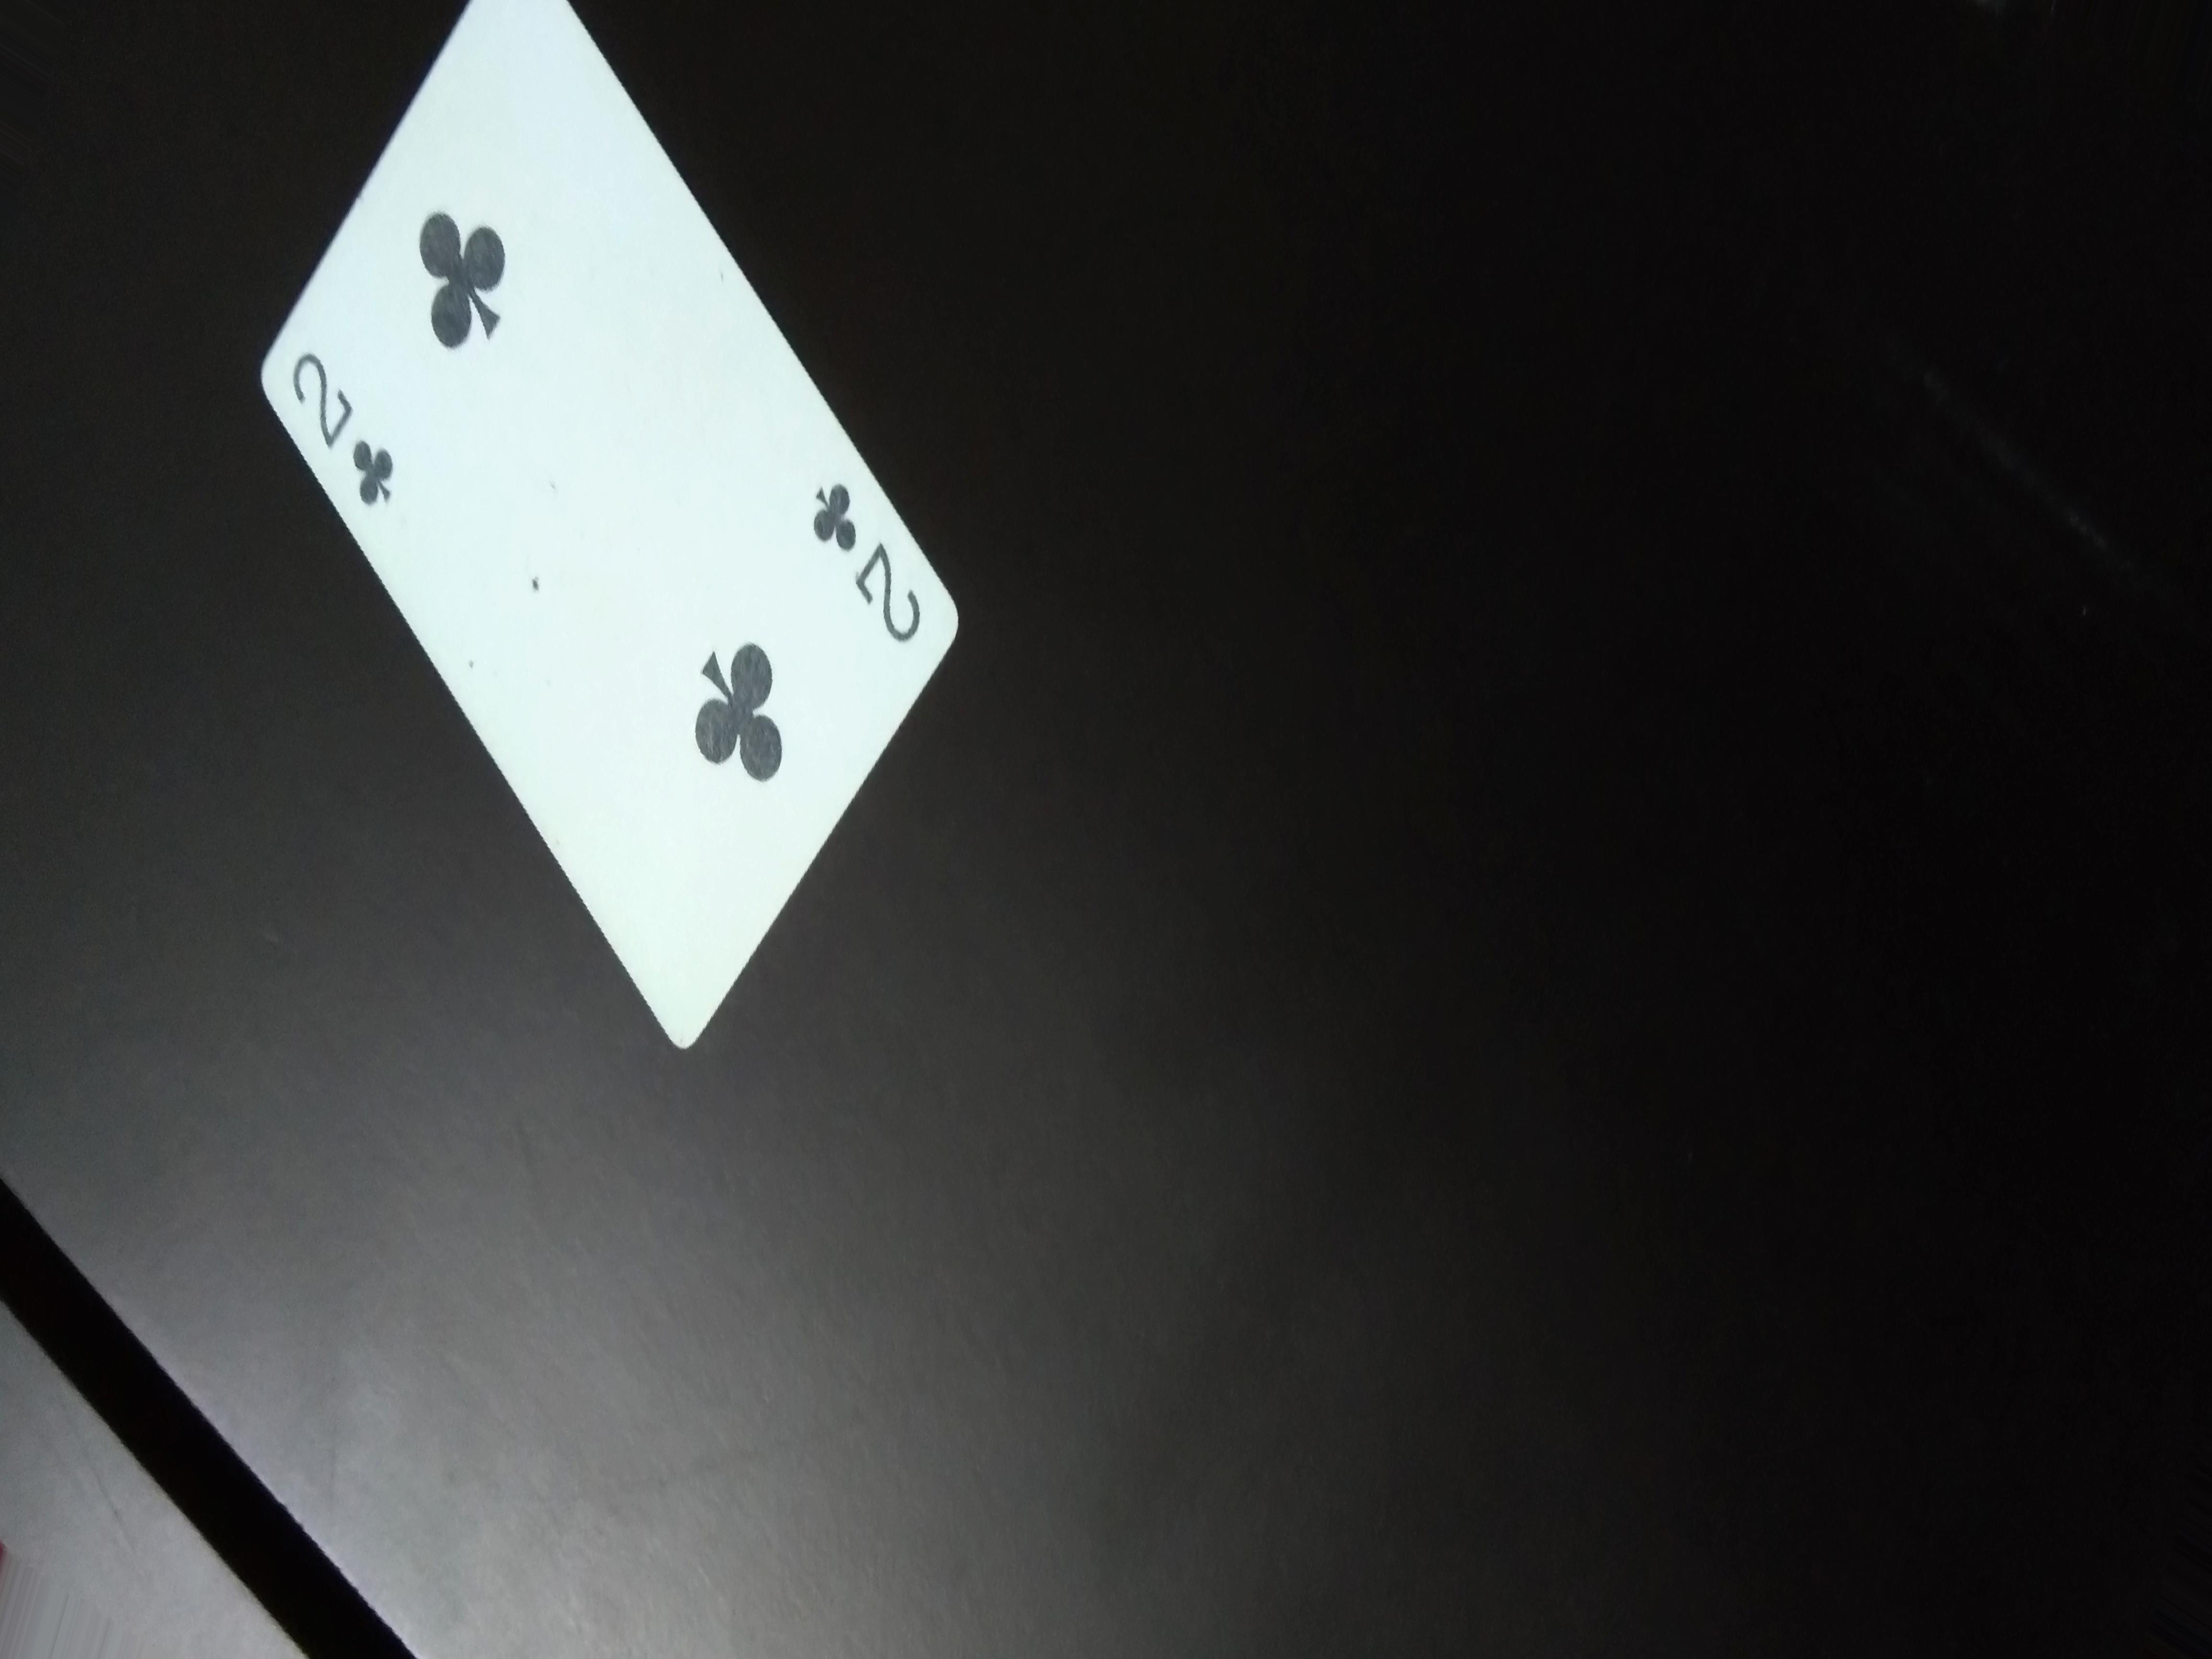2C: (284, 314, 425, 535)
